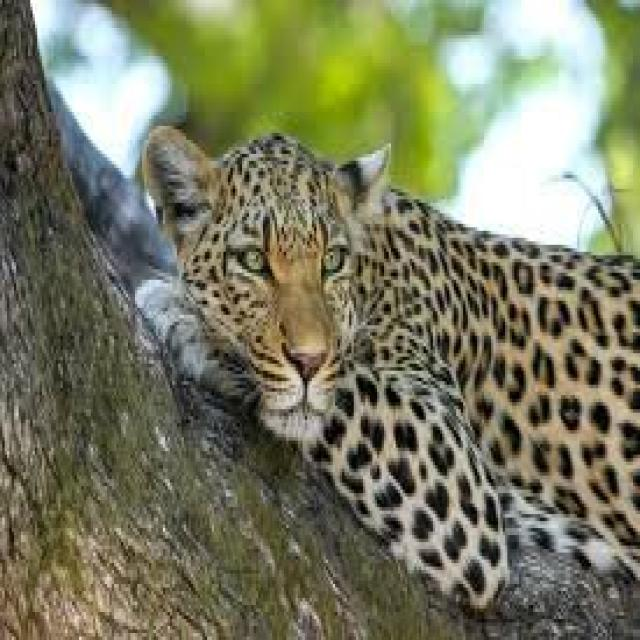Leopard: (137, 120, 640, 591)
